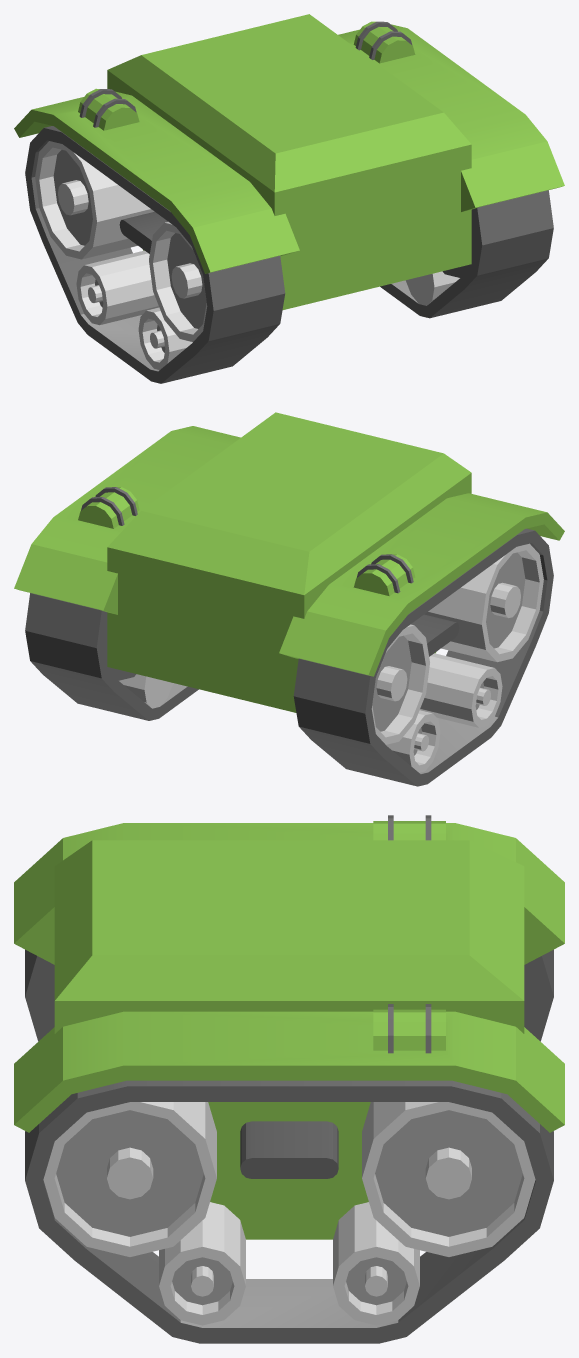
The model's file is Tank.fbx.
3 views of the same model, one above another, from view 1: azimuth 30°, elevation 25°; view 2: azimuth 150°, elevation 25°; view 3: azimuth 270°, elevation 25° (orthographic). The views are drawn at different scales.
Parts seen in each view (by area): view 1: Group1; view 2: Group1; view 3: Group1.
Part boxes in pixels (x1,y1,x2,y2): Group1: (14,14,564,383); Group1: (14,412,564,786); Group1: (14,815,564,1343).
Bounding box in the file's own units: 41.02 × 25.99 × 39.37.
